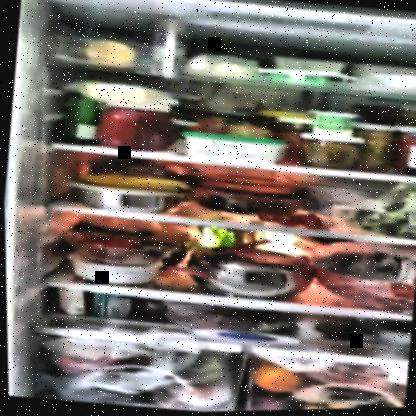banana: (82, 171, 191, 195)
cheese: (183, 129, 282, 167), (83, 81, 160, 105)
cream_cheese: (259, 65, 346, 91)
lemon: (296, 401, 333, 410)
lettuce: (351, 181, 415, 244)
orange: (250, 364, 305, 394)
tomato: (81, 232, 141, 260), (254, 210, 323, 231)
yoghurt: (308, 109, 356, 140)
